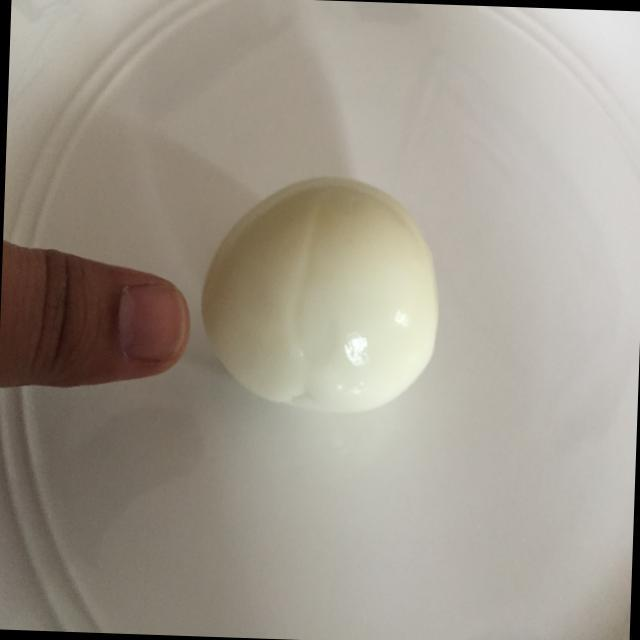Egg: (192, 166, 452, 425)
Finger: (22, 236, 198, 400)
